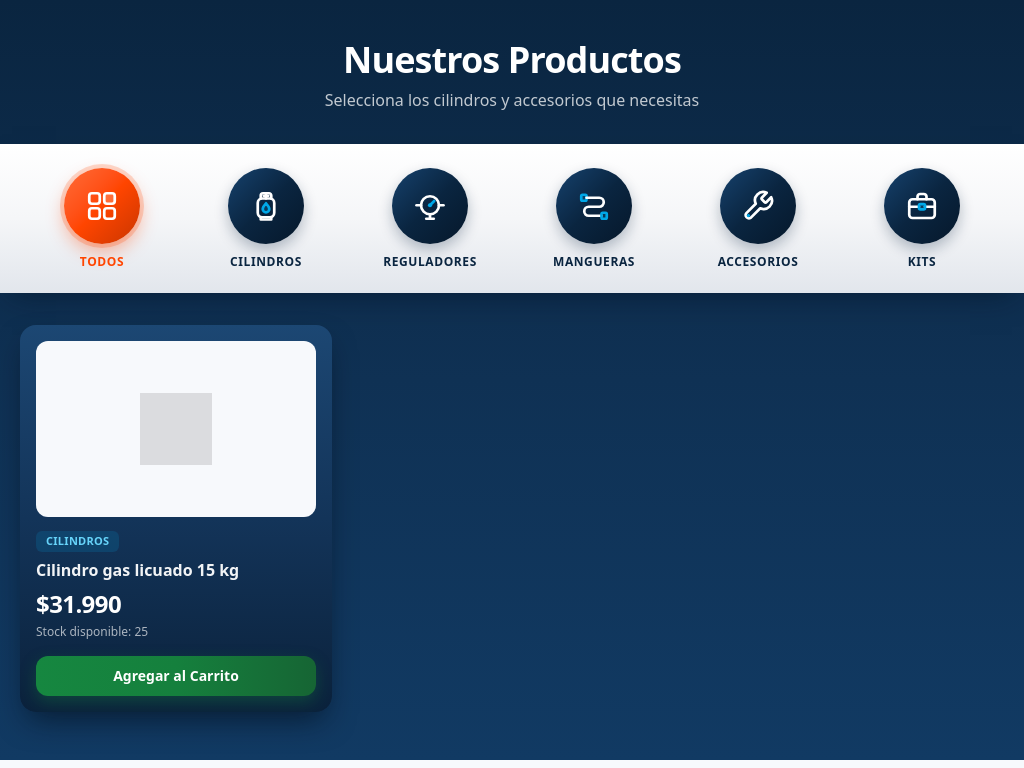
Test: Pruebas Unitarias - Comportamiento de Componentes y Manipulación del DOM › 14. Productos: Renderiza el catálogo de productos obtenido del backend con sus nombres, precios y botones para agregar al carrito
Expected: the heading "Nuestros Productos" is shown, [343, 35, 681, 84]
Expected: the heading "Cilindro gas licuado 15 kg" is shown, [36, 558, 239, 580]
Click the button "Reguladores". click: (430, 218)
box: [360, 168, 500, 269]
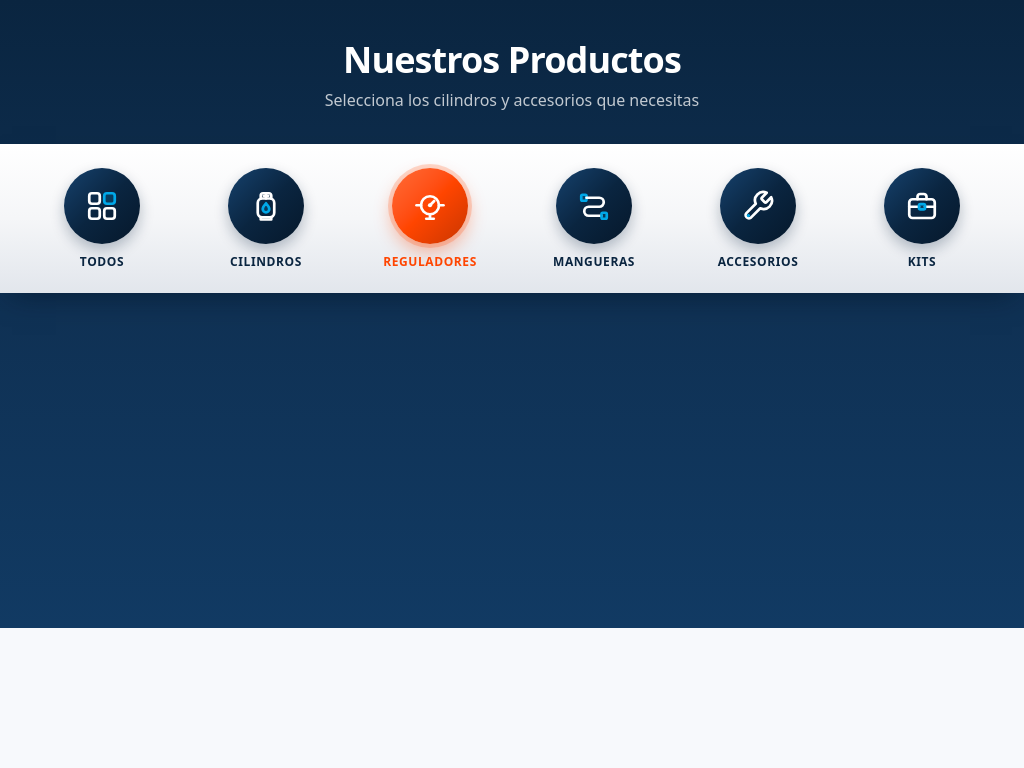
Expected: the heading "Cilindro gas licuado 15 kg" is gone
Click the button "Todos". click: (102, 218)
box: [32, 168, 172, 269]
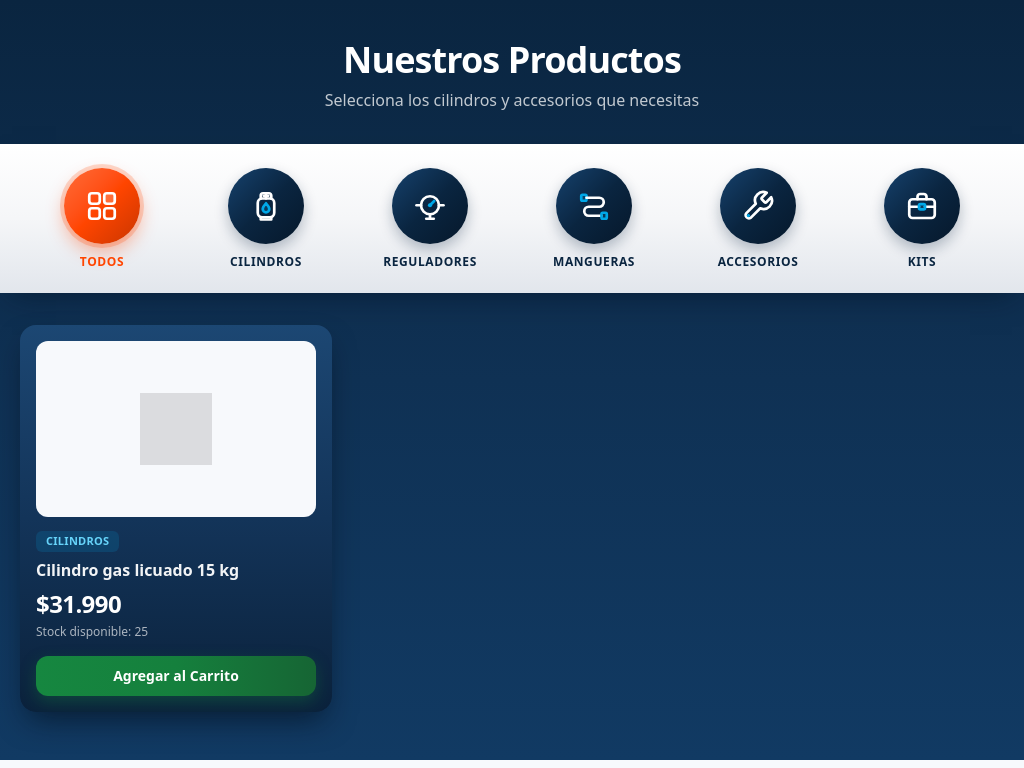
Expected: the heading "Cilindro gas licuado 15 kg" is shown, [36, 558, 239, 580]
